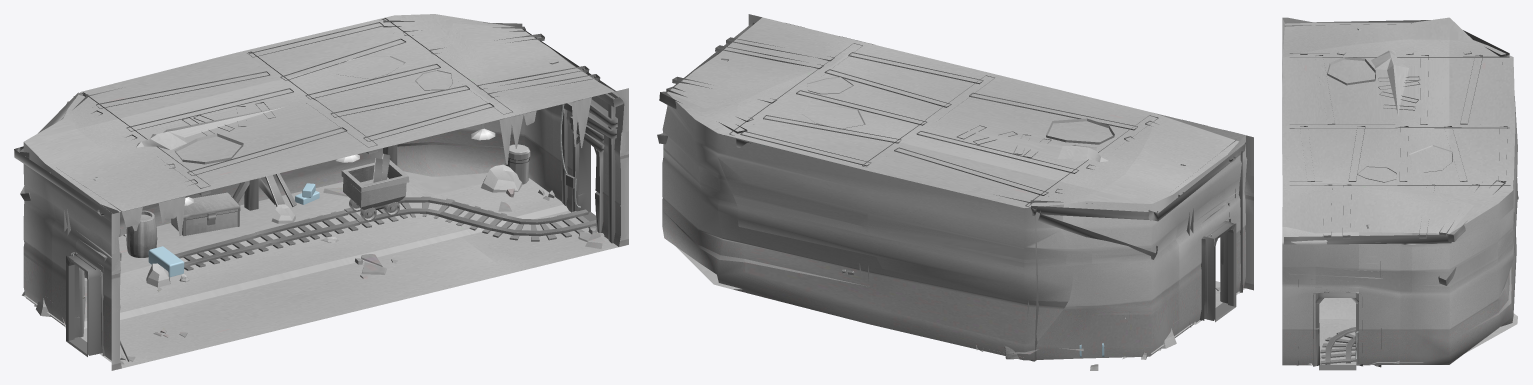
Rendered from MSH_QuestCave_L6_R2_optimized.fbx.
The picture shows the model from 3 angles, left to right: view 1: azimuth 30°, elevation 25°; view 2: azimuth 150°, elevation 25°; view 3: azimuth 270°, elevation 25°; orthographic projection. The views are drawn at different scales.
Visible parts, largest first — view 1: lightmap0, lightmap1; view 2: lightmap0, lightmap1; view 3: lightmap0, lightmap1.
Boxes of the visible parts, x1,y1,x2,y2 form: lightmap0: (22,14,628,370); lightmap1: (14,18,623,361); lightmap0: (662,14,1253,370); lightmap1: (657,22,1245,361); lightmap0: (1282,17,1518,370); lightmap1: (1284,20,1513,367).
Bounding box in the file's own units: 20.64 × 6.43 × 9.29.
2 materials, 1 textured.
